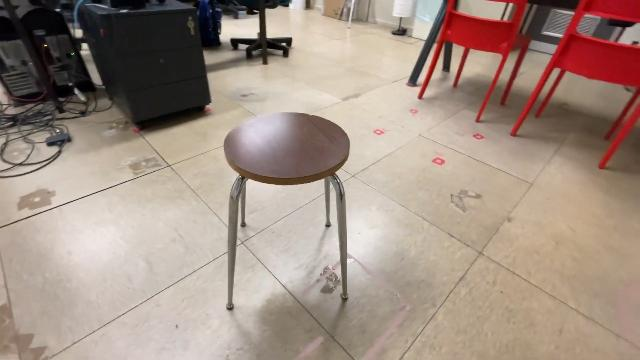Chair: (506, 0, 640, 172), (414, 0, 534, 126)
Lamp: (388, 0, 416, 38)
Stool: (220, 109, 354, 313)
